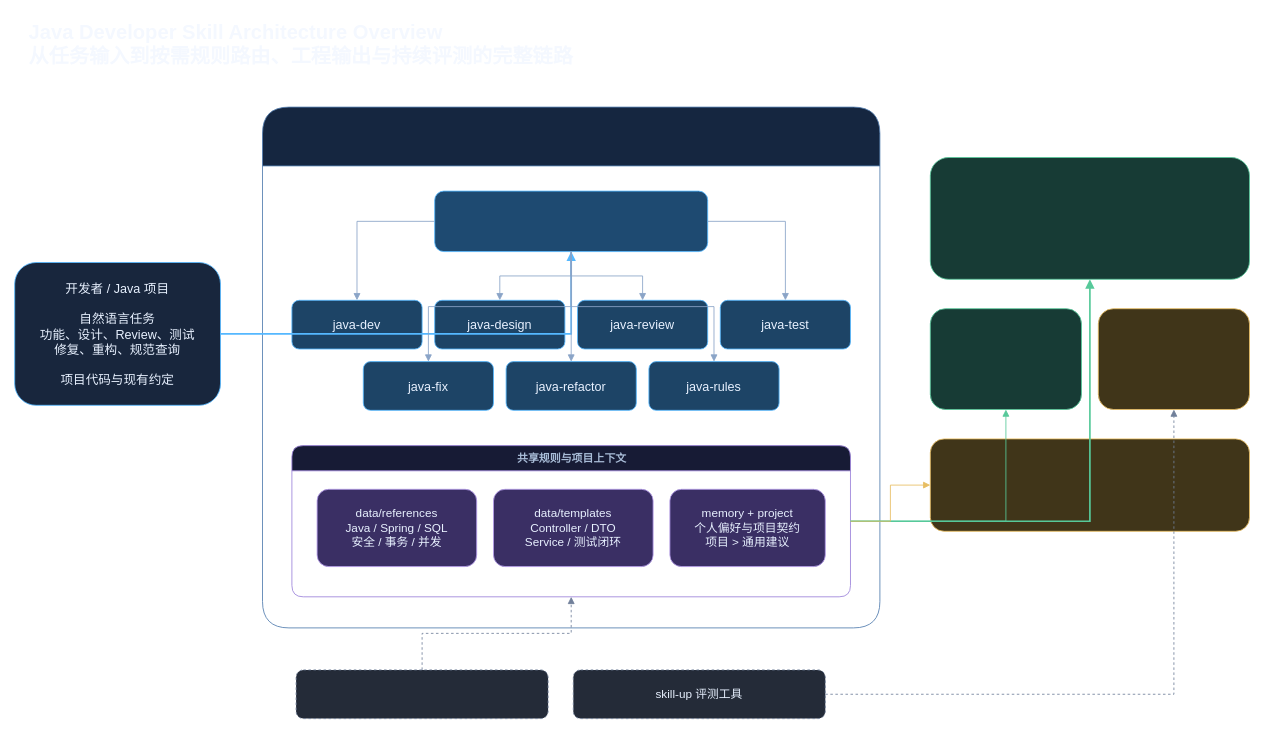
Some shapes in this 1264 by 733 pixel diagram are drawn without their labels. The box of each missing label's shape, as (x1, y1, x2, y2) in pixels:
GitHub Actions CI Windows / Ubuntu · 结构检查 · 评测回归 Pull Request 自动验证: (929, 438, 1250, 531)
Java Developer Skill 共享总纲 + 任务入口 + 规则与项目上下文: (262, 106, 880, 628)
skill-up Judge + holdout with / without 对比: (1097, 308, 1250, 410)
SKILL.md · Root Router 识别任务、选择入口、应用裁决顺序: (434, 190, 708, 252)
《Java 开发手册（黄山版）》 / P3C: (295, 669, 548, 719)
工程输出 代码实现 · 设计方案 · Review 结论 测试用例 · 修复补丁 · 重构计划 带规则依据、风险说明和验证动作: (929, 157, 1250, 279)
维护校验 registry / content 质量回归测试: (929, 308, 1082, 410)
